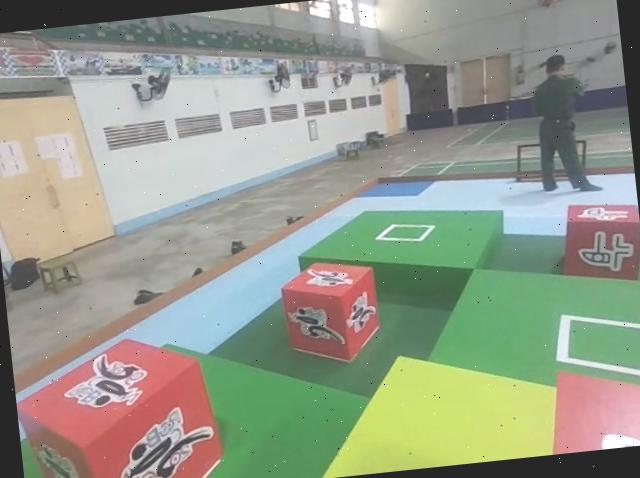R1: (9, 328, 229, 478), (276, 254, 384, 371)
R2 Real: (553, 193, 640, 288)
